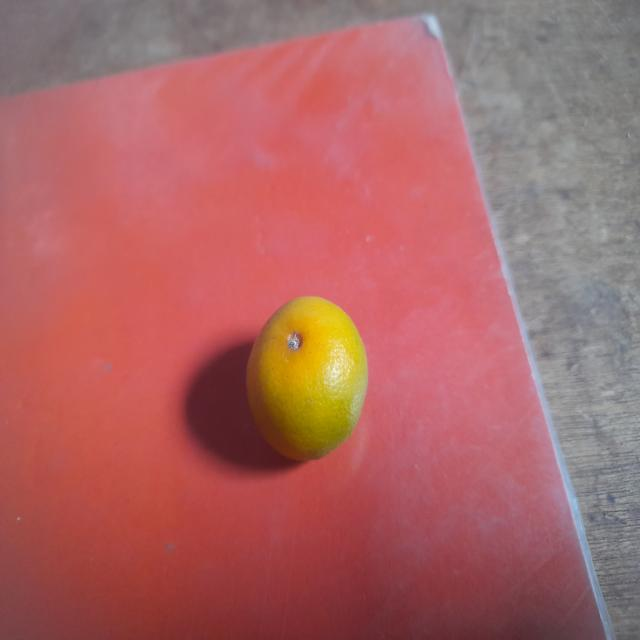greening: (245, 295, 366, 469)
